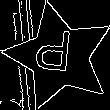P_S: (38, 30, 81, 83)
